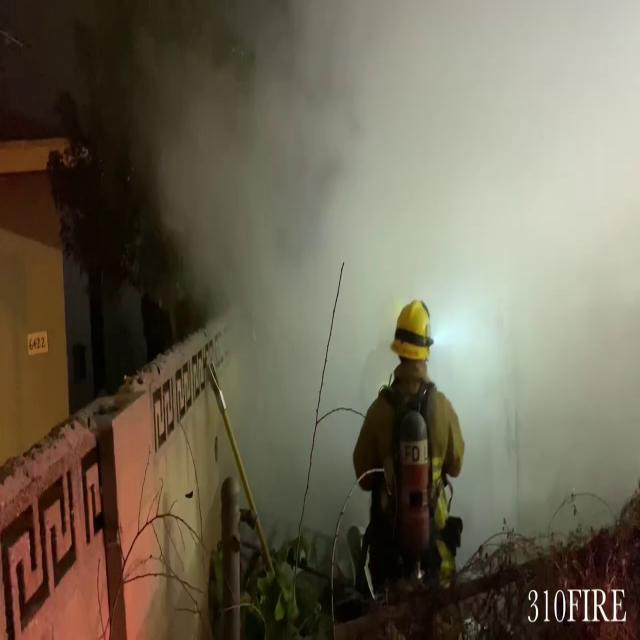Smoke: (126, 0, 640, 452)
